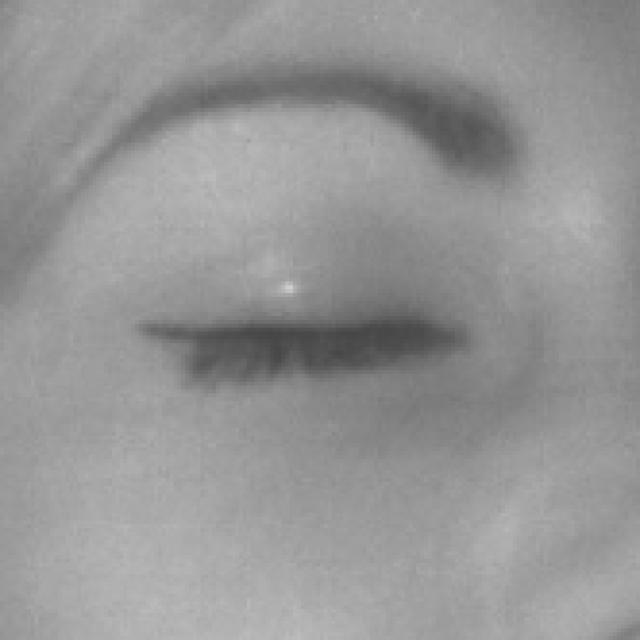Eyeclosed: (133, 209, 478, 474)
